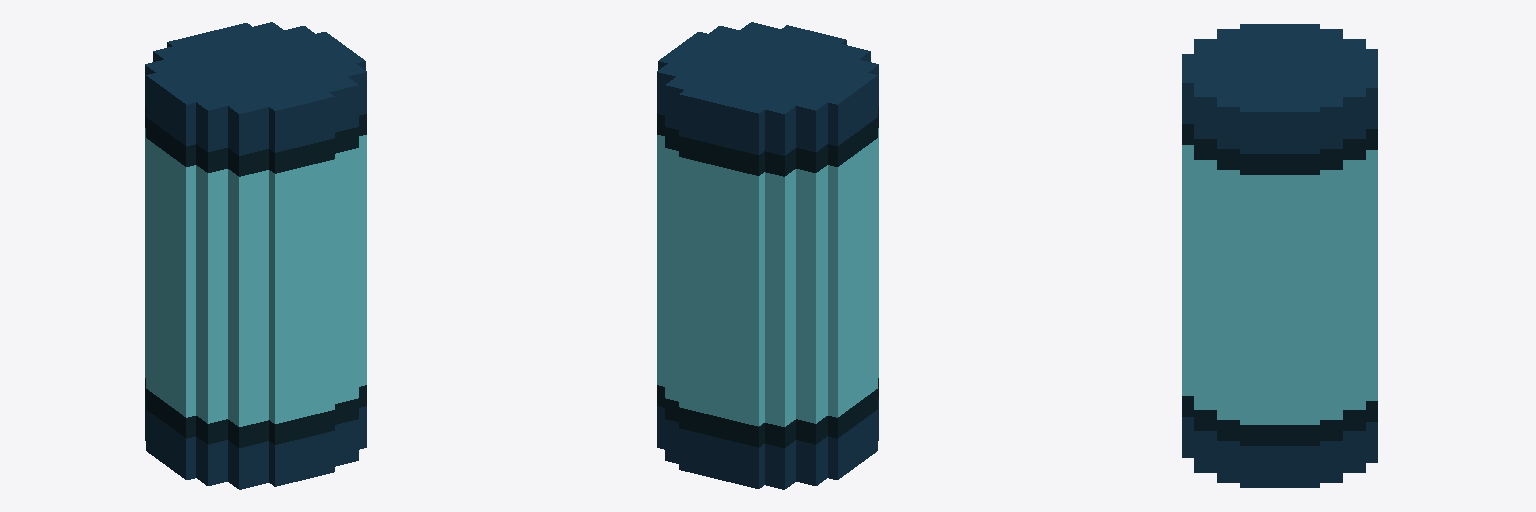
3 renders of one model, left to right at view 1: azimuth 30°, elevation 25°; view 2: azimuth 150°, elevation 25°; view 3: azimuth 270°, elevation 25°, orthographic.
Parts seen in each view (by area): view 1: object 1; view 2: object 1; view 3: object 1.
Boxes of the visible parts, x1=… form: object 1: x1=145, y1=22, x2=366, y2=489; object 1: x1=657, y1=22, x2=878, y2=489; object 1: x1=1182, y1=24, x2=1377, y2=487.
Bounding box in the file's own units: 1.8 × 3.6 × 1.7.
1 materials, 1 textured.